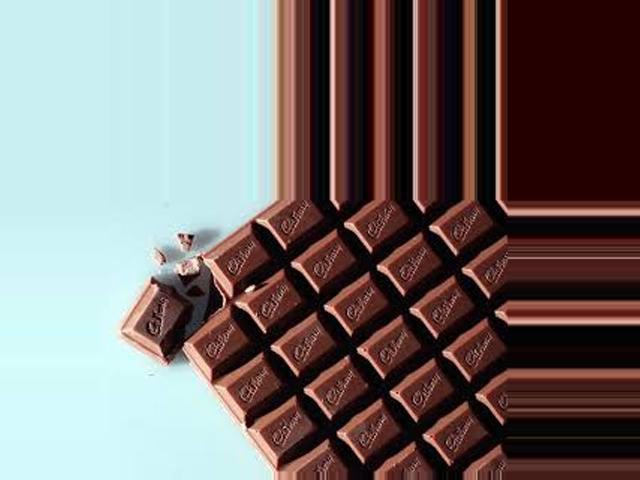chocolate: (158, 203, 509, 460)
